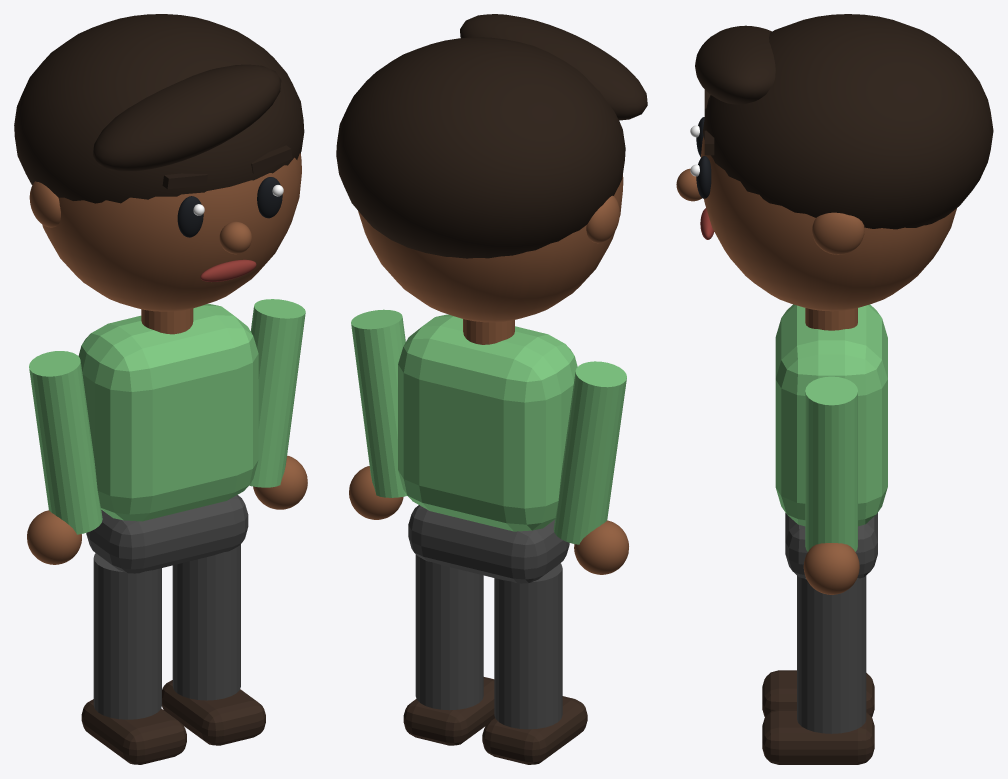
The model's file is persona_camisa_verde.glb.
3 renders of one model, left to right at view 1: azimuth 30°, elevation 25°; view 2: azimuth 150°, elevation 25°; view 3: azimuth 270°, elevation 25°, orthographic.
Parts seen in each view (by area): view 1: Cube.003, Sphere.011, Sphere.002, Sphere.012, Cylinder, Cylinder.001, Cylinder.002, Cube.002, Cylinder.003, Cube, Cube.001, Sphere (+9 smaller); view 2: Sphere.011, Cube.003, Sphere.002, Cylinder, Cylinder.001, Cylinder.002, Cube.002, Cylinder.003, Sphere.012, Cube, Cube.001, Sphere (+3 smaller); view 3: Sphere.011, Sphere.002, Cube.003, Cylinder.001, Cylinder.003, Sphere.012, Cube.001, Sphere.001, Cube.002, Sphere.006, Cube, Cylinder.004 (+1 smaller).
Boxes of the visible parts, <box> form: Cube.003: <box>78,304,258,521</box>; Sphere.011: <box>14,14,304,203</box>; Sphere.002: <box>42,153,301,311</box>; Sphere.012: <box>93,64,281,171</box>; Cylinder: <box>93,553,161,719</box>; Cylinder.001: <box>172,544,240,700</box>; Cylinder.002: <box>29,351,102,534</box>; Cube.002: <box>86,495,248,573</box>; Cylinder.003: <box>249,299,305,487</box>; Cube: <box>81,699,186,764</box>; Cube.001: <box>162,680,265,745</box>; Sphere: <box>27,510,81,564</box>; Sphere.011: <box>336,37,625,258</box>; Cube.003: <box>398,314,577,531</box>; Sphere.002: <box>358,175,623,322</box>; Cylinder: <box>494,563,562,729</box>; Cylinder.001: <box>415,554,483,710</box>; Cylinder.002: <box>553,361,626,544</box>; Cube.002: <box>408,505,569,583</box>; Cylinder.003: <box>351,309,407,497</box>; Sphere.012: <box>460,14,647,120</box>; Cube: <box>482,696,587,764</box>; Cube.001: <box>403,677,494,745</box>; Sphere: <box>574,520,628,574</box>; Sphere.011: <box>703,14,993,229</box>; Sphere.002: <box>701,136,956,311</box>; Cube.003: <box>775,304,887,526</box>; Cylinder.001: <box>797,575,866,733</box>; Cylinder.003: <box>805,376,857,551</box>; Sphere.012: <box>695,25,775,104</box>; Cube.001: <box>762,709,874,764</box>; Sphere.001: <box>803,543,859,594</box>; Cube.002: <box>785,513,877,578</box>; Sphere.006: <box>812,212,864,254</box>; Cube: <box>762,670,874,716</box>; Cylinder.004: <box>805,308,857,330</box>.
Bounding box in the file's own units: 0.97 × 2.35 × 0.96.
